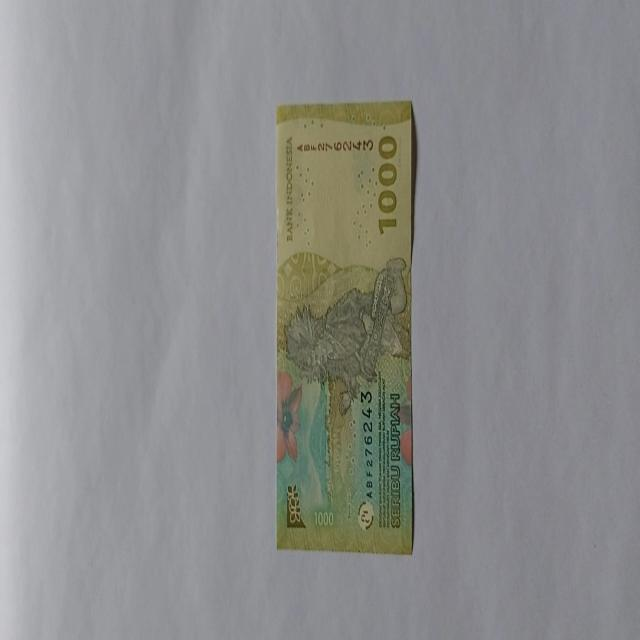seribu rupiah kertas: (274, 100, 416, 554)
